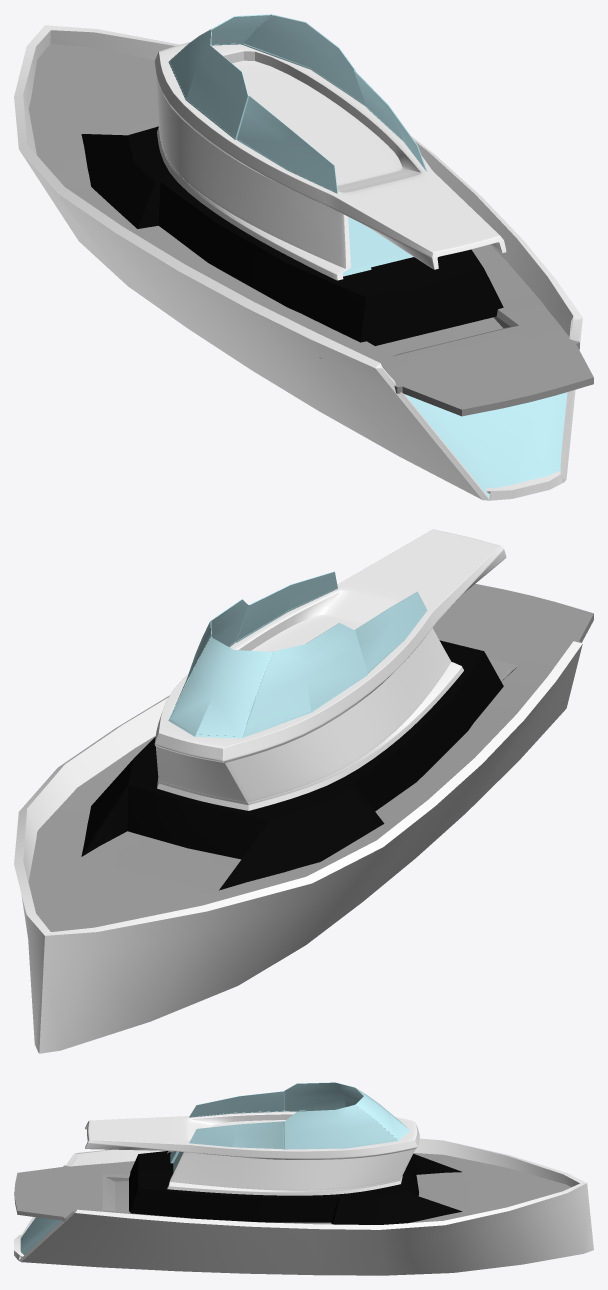
Rendered from Yacht.fbx.
3 renders of one model, top to bottom at view 1: azimuth 30°, elevation 25°; view 2: azimuth 150°, elevation 25°; view 3: azimuth 270°, elevation 25°, orthographic. The views are drawn at different scales.
Parts seen in each view (by area): view 1: Box007; view 2: Box007; view 3: Box007.
Part boxes in pixels (x1,y1,x2,y2): Box007: (14, 14, 593, 500); Box007: (14, 529, 593, 1053); Box007: (14, 1082, 593, 1275).
Bounding box in the file's own units: 20.76 × 15.99 × 54.28.
